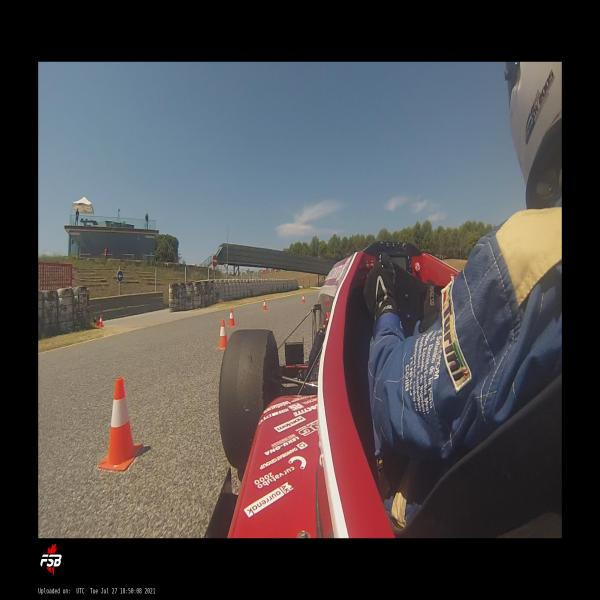orange_cone: (98, 377, 143, 472), (216, 319, 228, 349), (229, 309, 235, 326), (98, 315, 104, 327), (262, 299, 267, 311), (301, 294, 305, 304)
yellow_cone: (93, 317, 97, 326)
